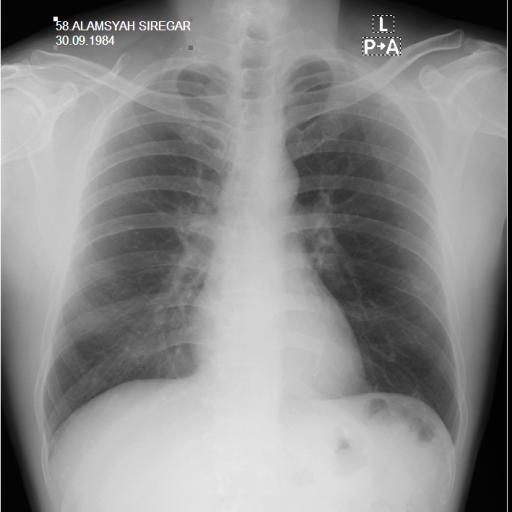normal: (24, 35, 472, 461)
